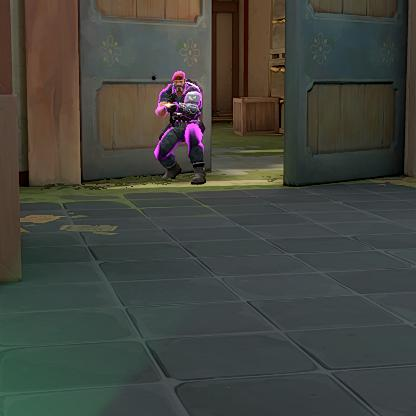enemyBody: (171, 93, 189, 128)
enemyHead: (174, 76, 183, 91)
